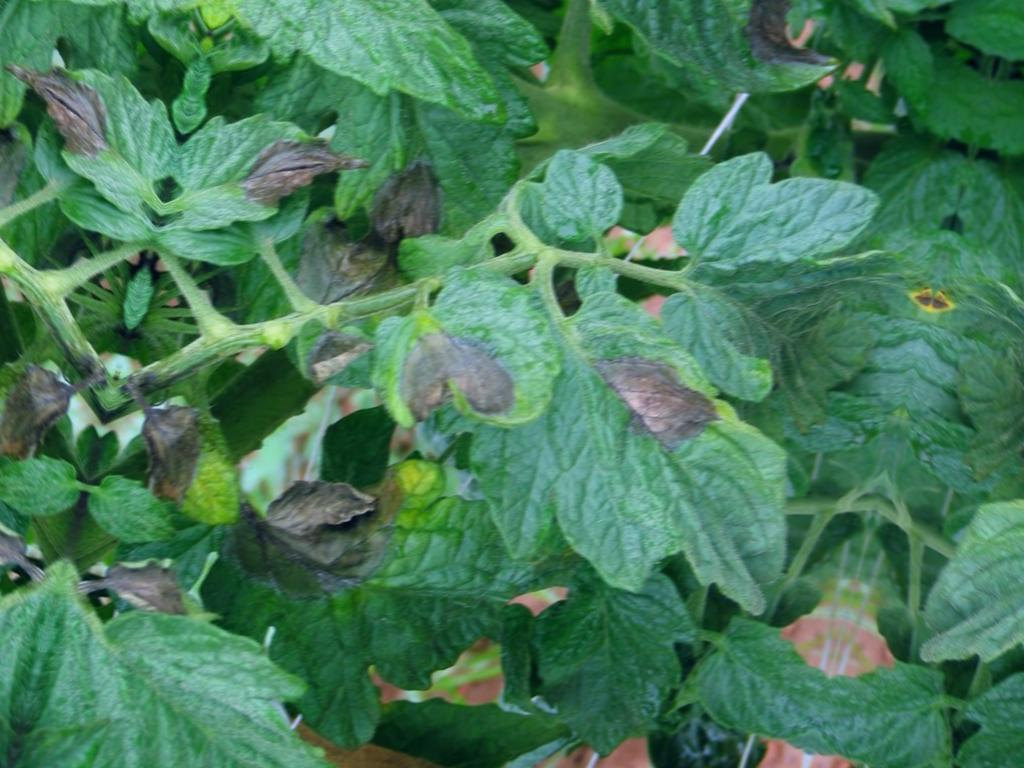Tomato leaf late blight: (437, 261, 851, 637), (143, 421, 570, 768), (367, 247, 580, 464), (163, 104, 357, 264), (98, 384, 279, 545)
